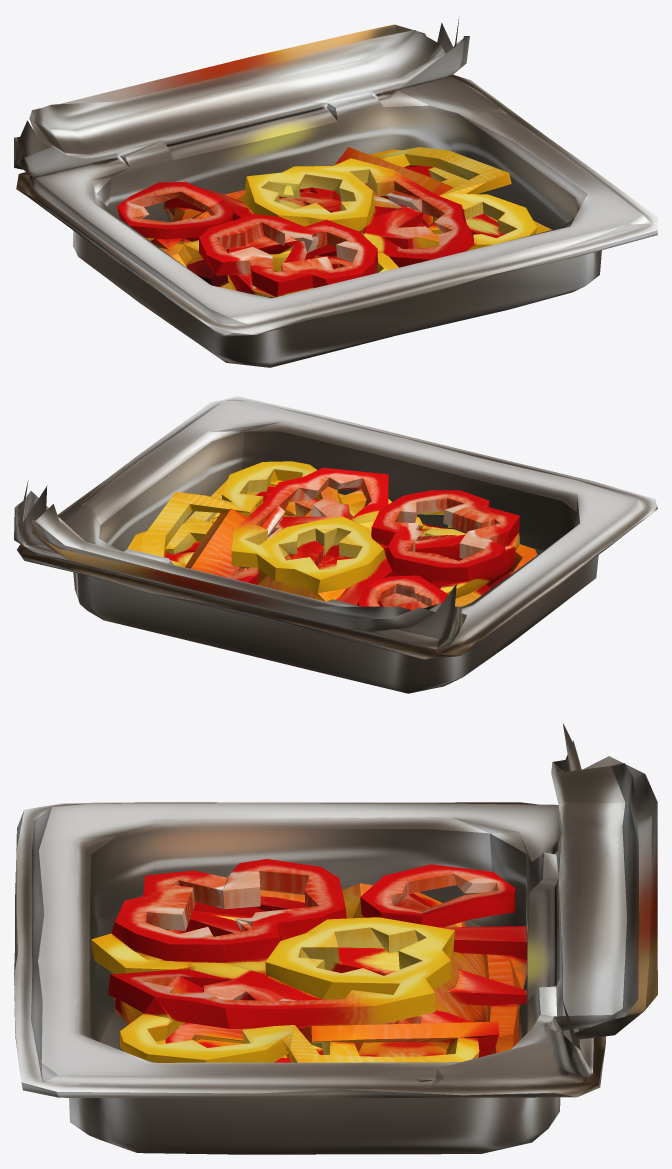
The model's file is PeppersCut.glb.
The picture shows the model from 3 angles, top to bottom: view 1: azimuth 30°, elevation 25°; view 2: azimuth 150°, elevation 25°; view 3: azimuth 270°, elevation 25°; orthographic projection. The views are drawn at different scales.
Visible parts, largest first — view 1: geometry_0; view 2: geometry_0; view 3: geometry_0.
Part boxes in pixels (<box>): geometry_0: <box>14,17,657,367</box>; geometry_0: <box>14,396,657,693</box>; geometry_0: <box>14,723,657,1154</box>.
Size of the model in its own units: 0.15 by 0.0451 by 0.1401.
1 material, 1 textured.
